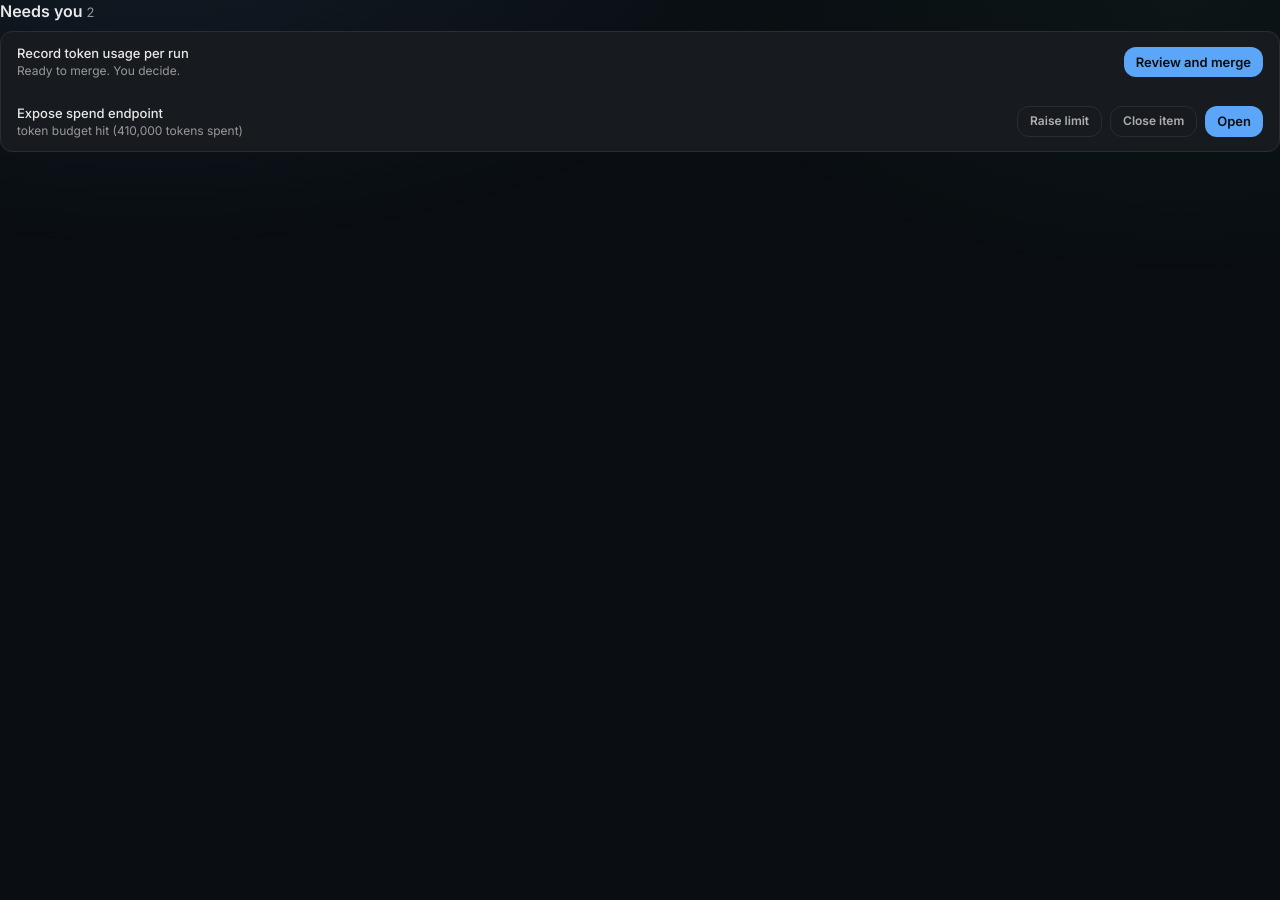
Test: needs_human actions › raises the token and round limits for the whole loop
Click the button "Raise limit" at (1060, 122), box [1017,106,1102,137]
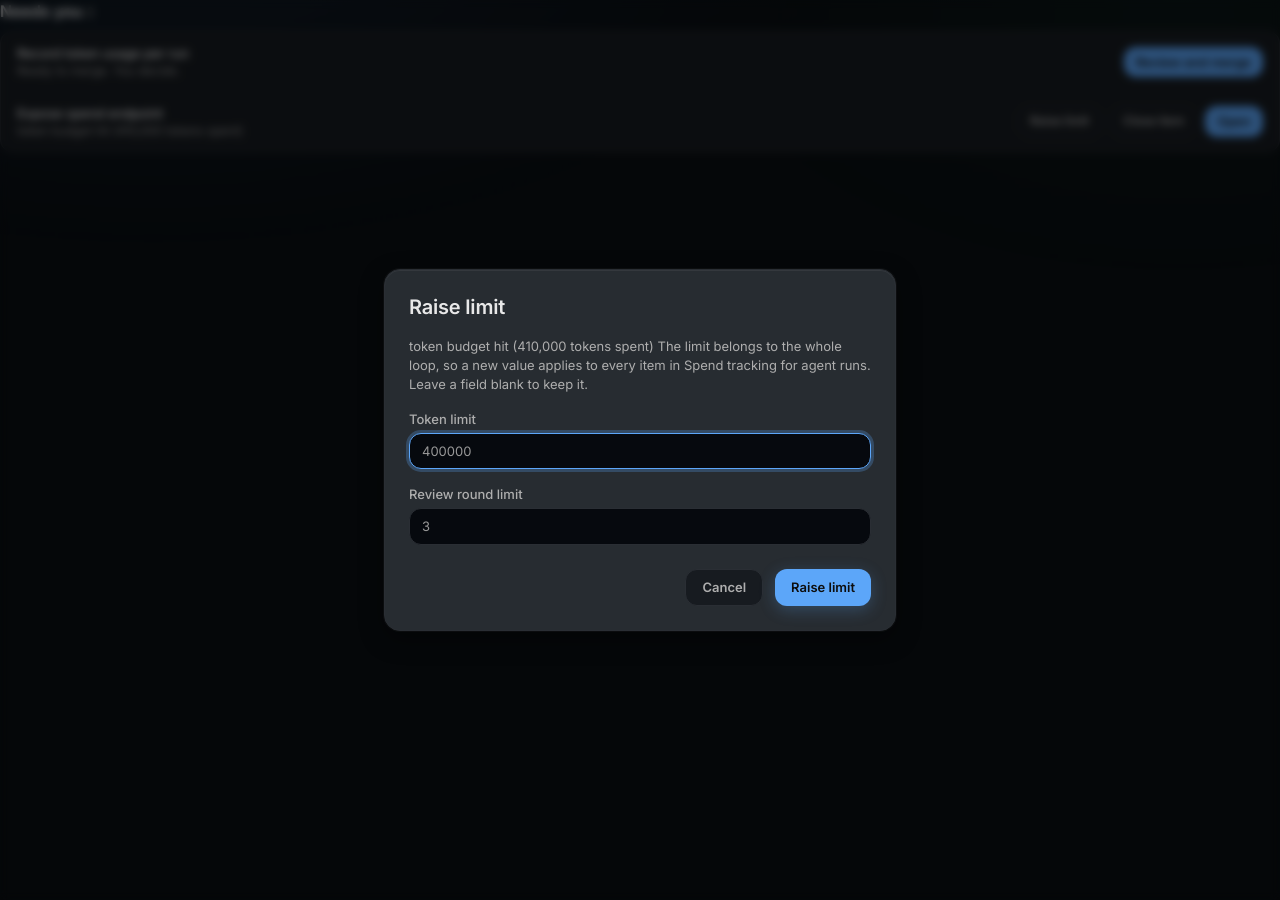
Type "800000" into the field labelled "Token limit" at (640, 451), box [409,432,871,469]
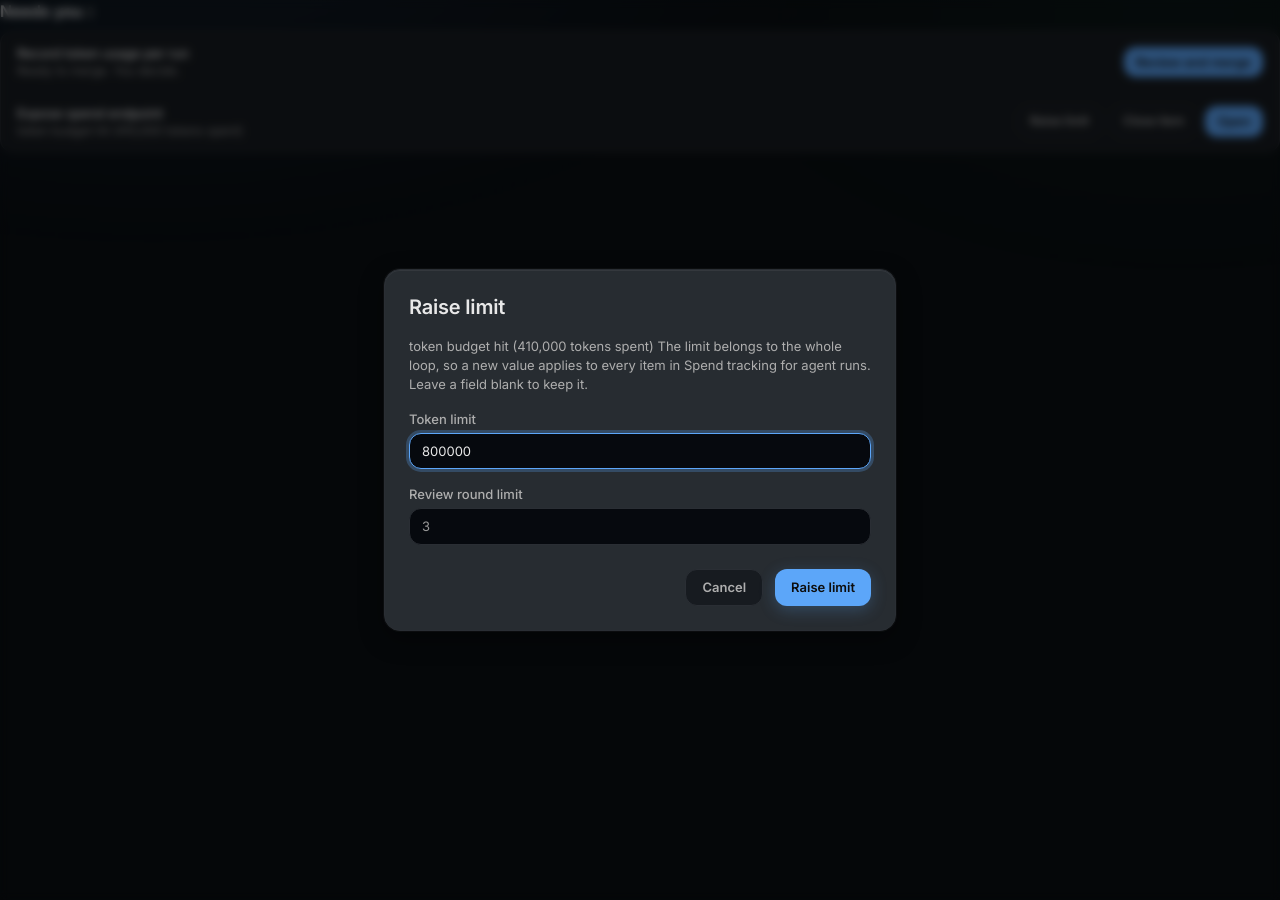
Type "6" into the field labelled "Review round limit" at (640, 527), box [409,508,871,545]
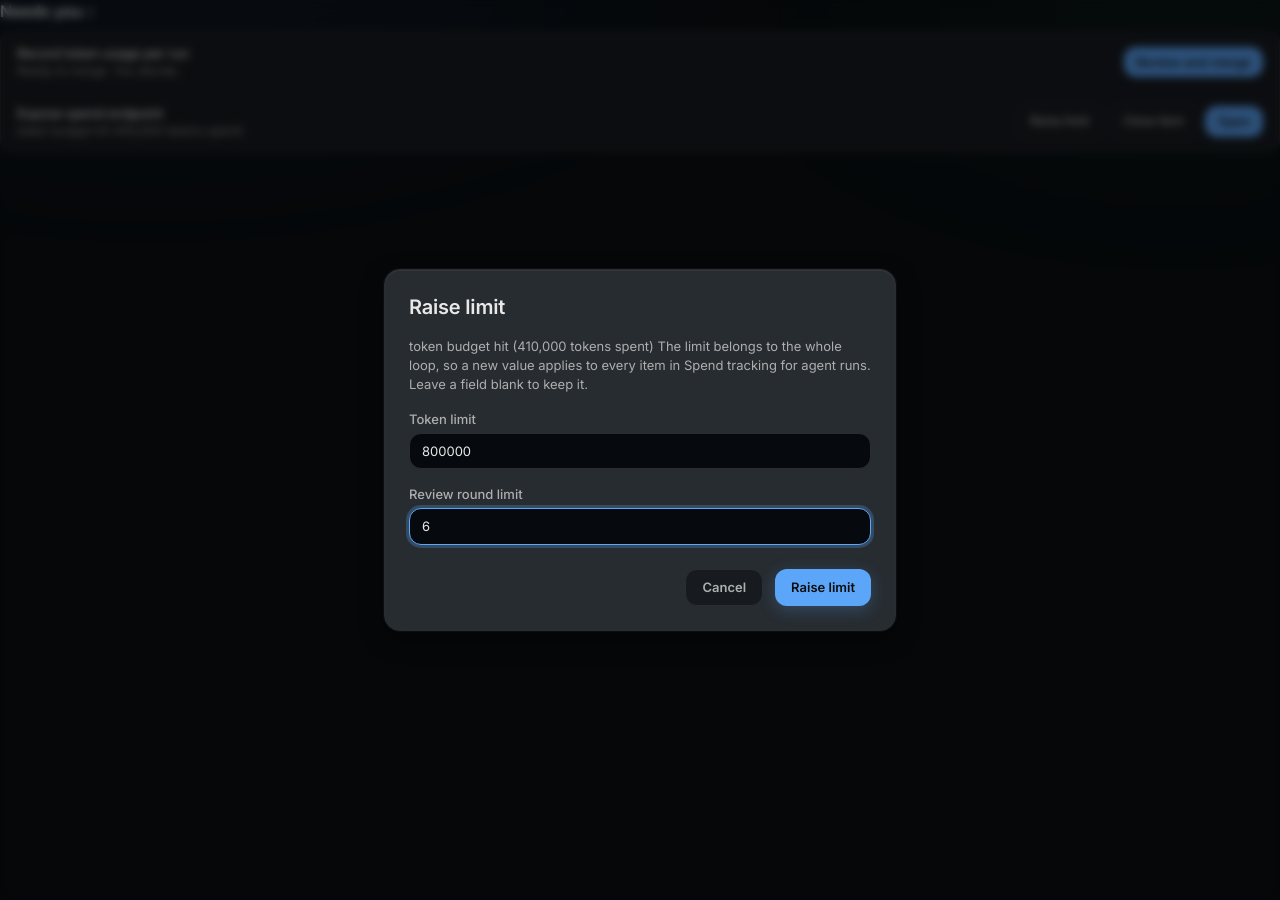
Click the button "Raise limit" at (823, 587), box [775,569,871,606]
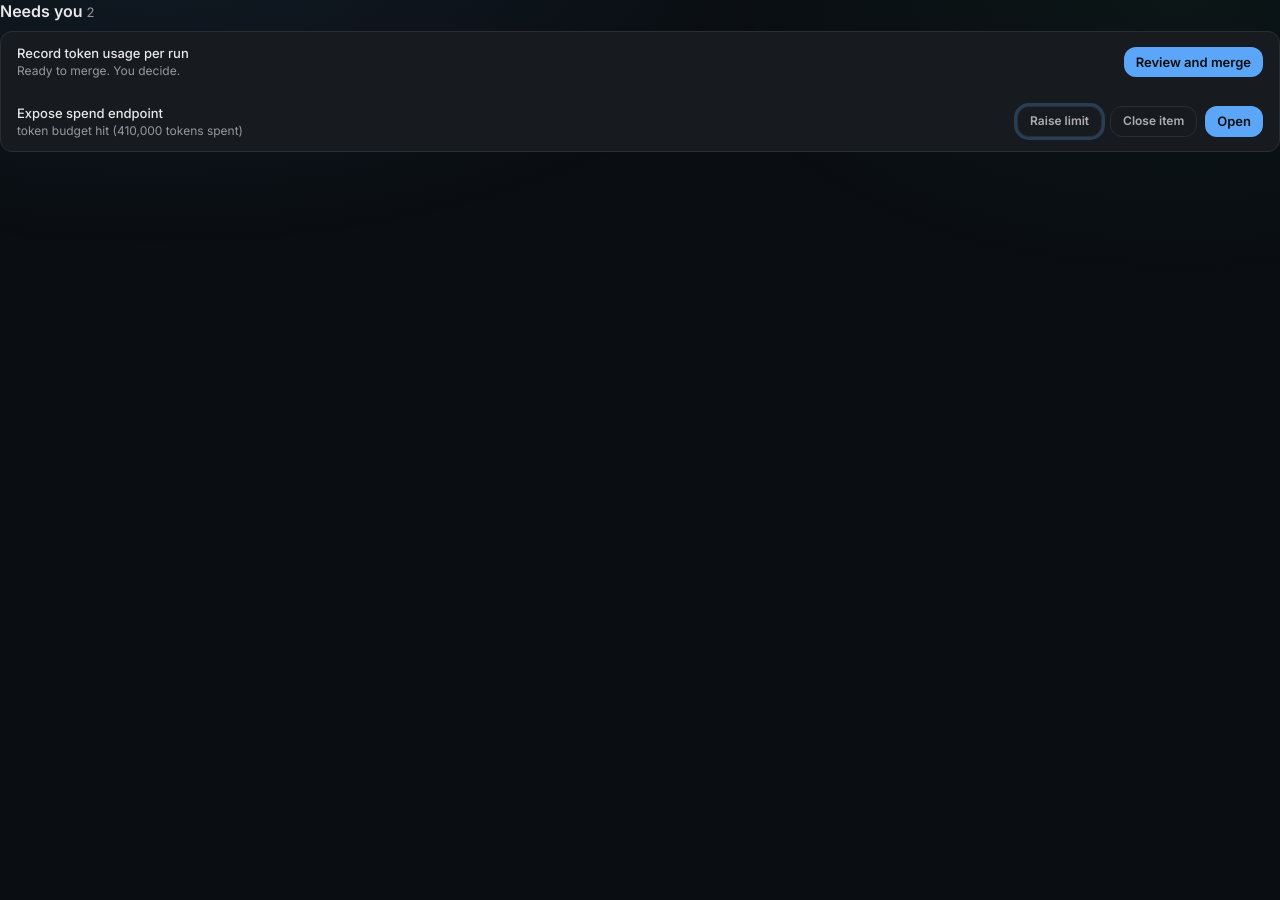
Expected: the dialog is gone
